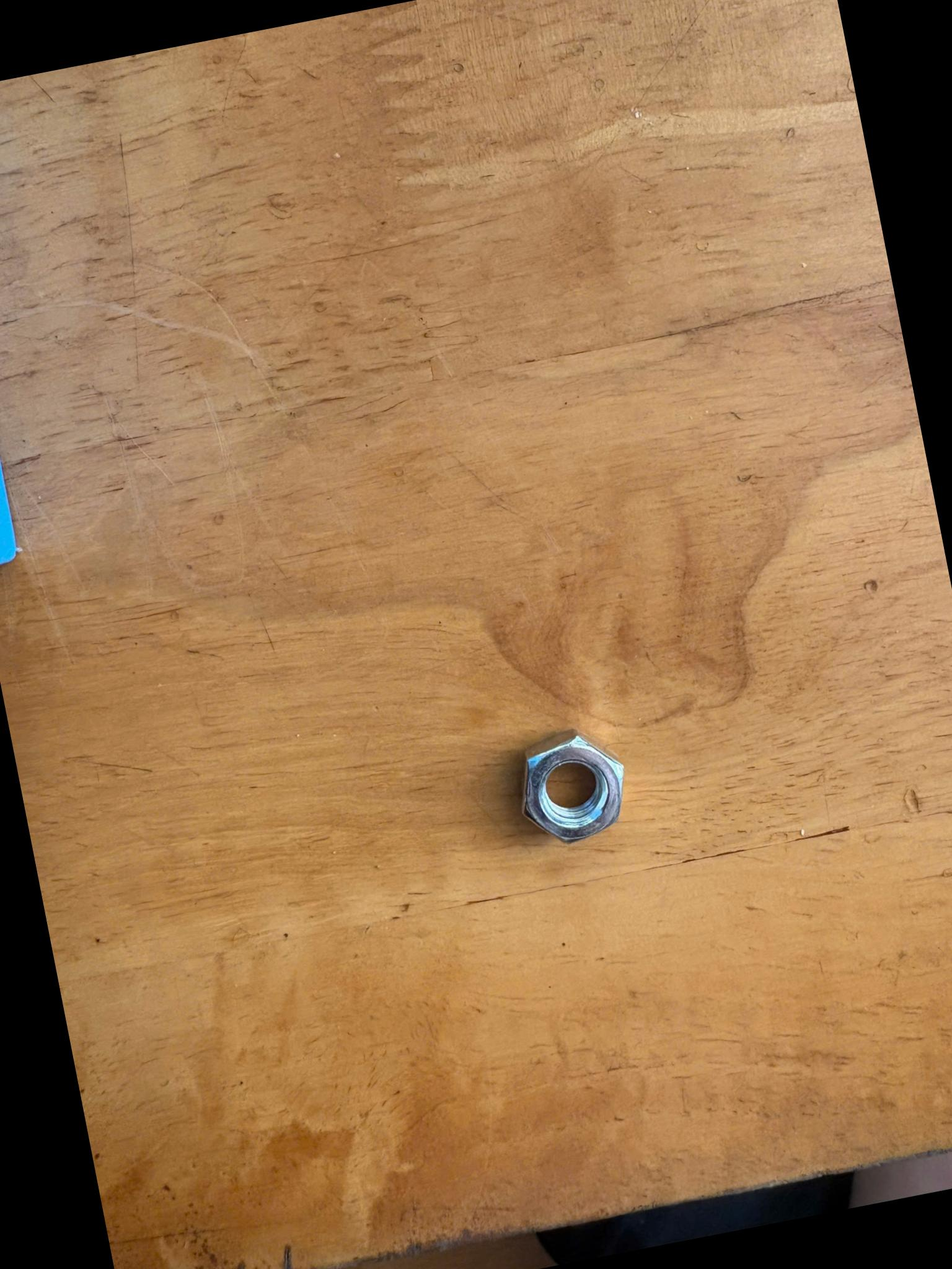nut: (500, 708, 646, 869)
